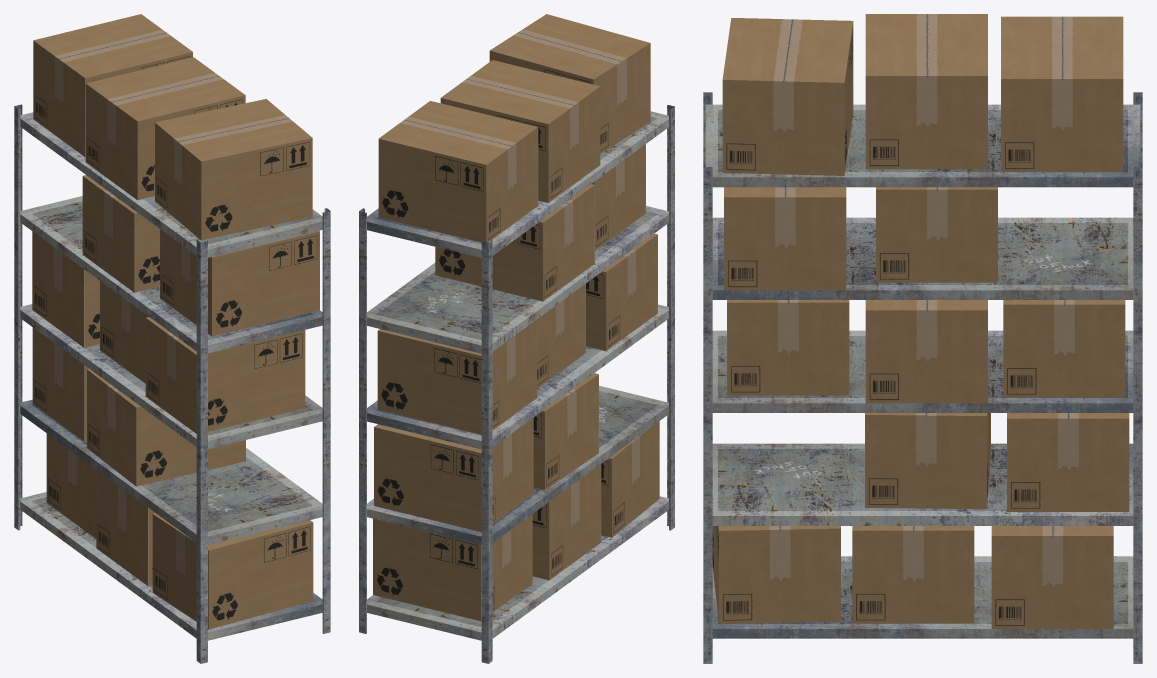
File: shelf00.dae
3 views of the same model, side by side, from view 1: azimuth 30°, elevation 25°; view 2: azimuth 150°, elevation 25°; view 3: azimuth 270°, elevation 25° (orthographic). The views are drawn at different scales.
Visible parts, largest first — view 1: group_21, group_0, group_15, group_19, group_18, group_6, group_20, group_12, group_8, group_17, group_7, group_14 (+9 smaller); view 2: group_20, group_13, group_14, group_11, group_19, group_8, group_21, group_17, group_6, group_1, group_15, group_10 (+9 smaller); view 3: group_21, group_19, group_20, group_6, group_8, group_16, group_18, group_11, group_0, group_13, group_10, group_14 (+8 smaller).
Boxes of the visible parts, x1=… form: group_21: x1=155, y1=99, x2=312, y2=240; group_0: x1=152, y1=513, x2=313, y2=629; group_15: x1=145, y1=317, x2=305, y2=433; group_19: x1=85, y1=57, x2=245, y2=200; group_18: x1=160, y1=229, x2=319, y2=336; group_6: x1=20, y1=399, x2=322, y2=544; group_20: x1=33, y1=14, x2=192, y2=156; group_12: x1=87, y1=368, x2=245, y2=486; group_8: x1=20, y1=196, x2=322, y2=353; group_17: x1=82, y1=175, x2=159, y2=292; group_7: x1=20, y1=304, x2=322, y2=448; group_14: x1=32, y1=231, x2=99, y2=347; group_20: x1=378, y1=101, x2=538, y2=242; group_13: x1=374, y1=418, x2=533, y2=531; group_14: x1=377, y1=319, x2=537, y2=434; group_11: x1=373, y1=514, x2=532, y2=621; group_19: x1=440, y1=60, x2=600, y2=202; group_8: x1=367, y1=206, x2=668, y2=353; group_21: x1=489, y1=14, x2=650, y2=153; group_17: x1=435, y1=184, x2=594, y2=301; group_6: x1=367, y1=385, x2=668, y2=544; group_1: x1=367, y1=496, x2=668, y2=640; group_15: x1=586, y1=233, x2=657, y2=350; group_10: x1=532, y1=464, x2=601, y2=580; group_21: x1=722, y1=18, x2=853, y2=175; group_19: x1=865, y1=14, x2=987, y2=169; group_20: x1=1001, y1=16, x2=1123, y2=171; group_6: x1=712, y1=443, x2=1133, y2=525; group_8: x1=712, y1=217, x2=1133, y2=299; group_16: x1=865, y1=300, x2=987, y2=403; group_18: x1=724, y1=187, x2=846, y2=290; group_11: x1=991, y1=526, x2=1113, y2=628; group_0: x1=712, y1=526, x2=840, y2=623; group_13: x1=1007, y1=413, x2=1129, y2=511; group_10: x1=852, y1=526, x2=974, y2=623; group_14: x1=1003, y1=300, x2=1125, y2=397.
Size of the model in its own units: 36.88 by 91.75 by 133.
